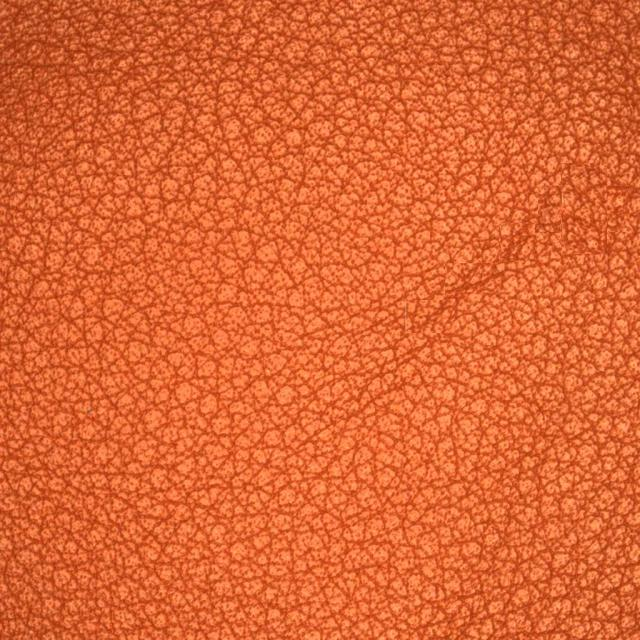Healed Injury: (396, 229, 542, 388), (529, 135, 619, 246)
